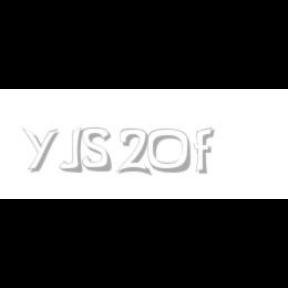2: (116, 128, 150, 176)
J: (58, 128, 84, 172)
O: (146, 128, 192, 174)
S: (82, 128, 112, 172)
f: (194, 128, 218, 174)
y: (22, 128, 62, 172)
